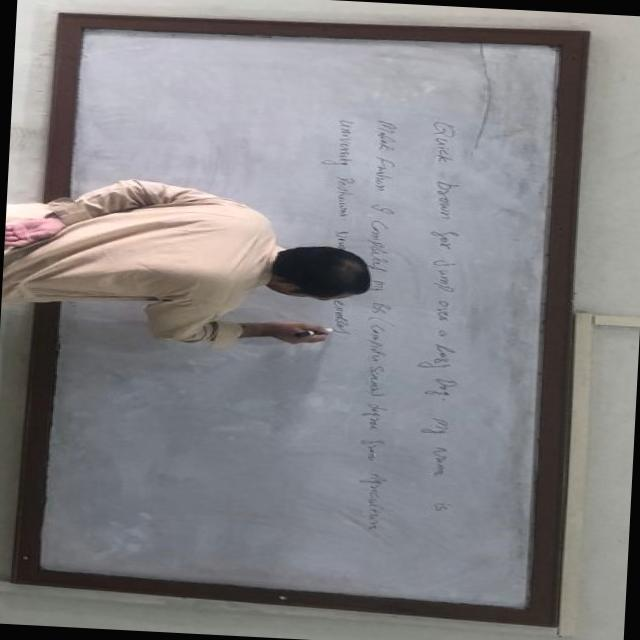Instructor: (6, 188, 390, 324)
White-board: (29, 24, 577, 620)
